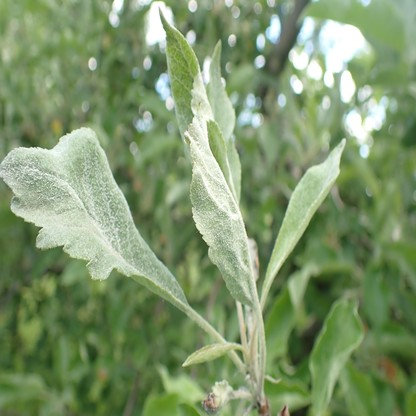powder: (1, 125, 185, 309), (184, 73, 256, 309), (258, 137, 347, 307), (209, 37, 236, 137), (227, 137, 241, 198)
